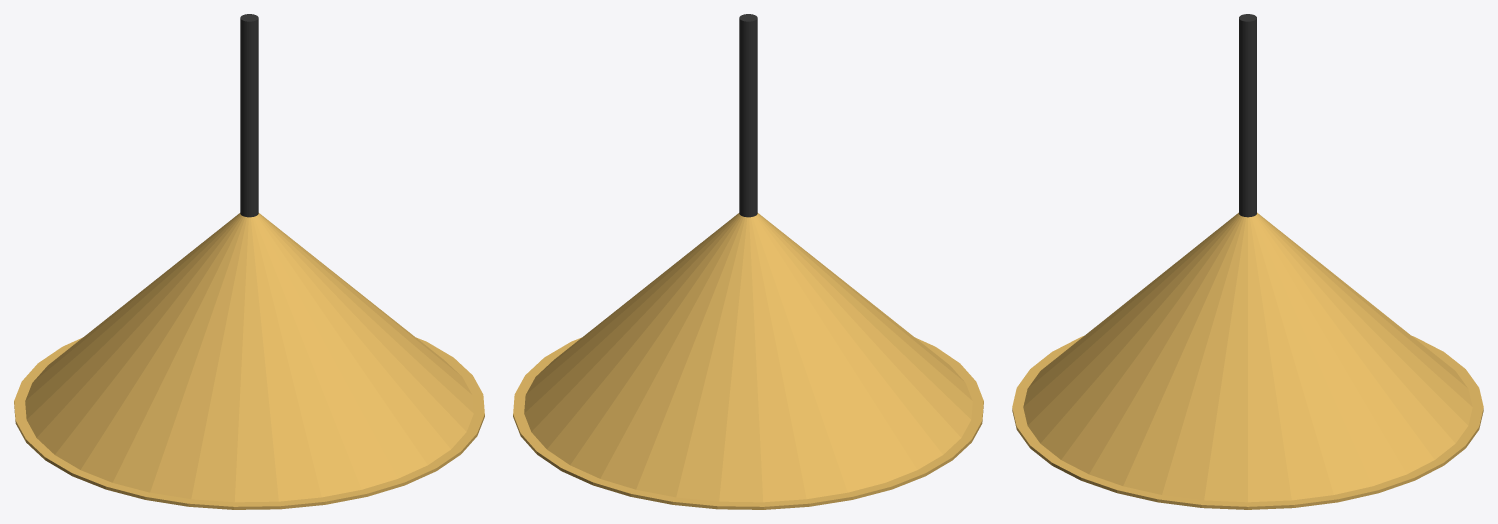
Rendered from Lamba.fbx.
3 renders of one model, left to right at view 1: azimuth 30°, elevation 25°; view 2: azimuth 150°, elevation 25°; view 3: azimuth 270°, elevation 25°, orthographic.
Parts seen in each view (by area): view 1: Cylinder; view 2: Cylinder; view 3: Cylinder.
Part boxes in pixels (x1,y1,x2,y2): Cylinder: (14, 14, 484, 509); Cylinder: (513, 14, 983, 509); Cylinder: (1012, 14, 1483, 509).
Size of the model in its own units: 118 by 116 by 118.
